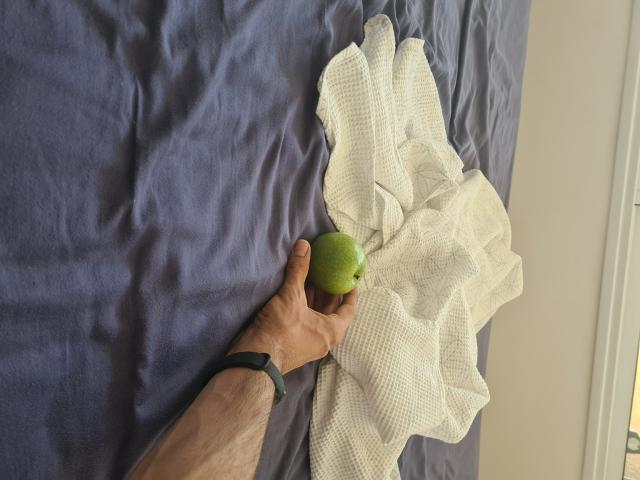apple: (300, 228, 366, 293)
